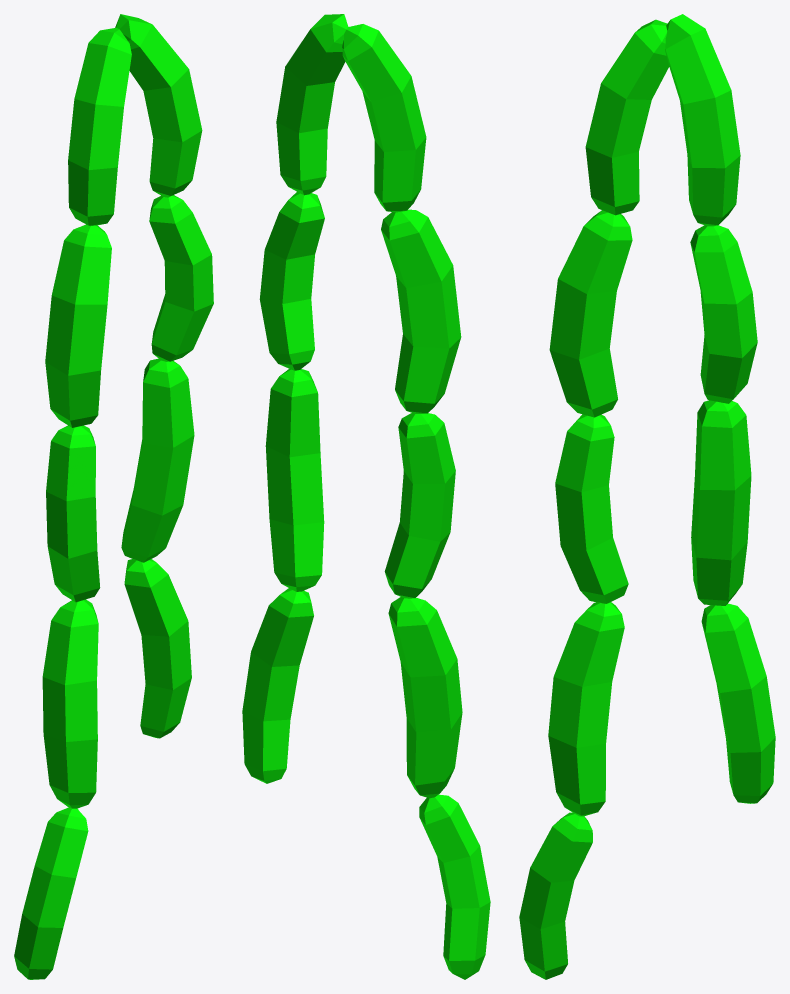
Rendered from SM_Sausages_Thick.fbx.
3 renders of one model, left to right at view 1: azimuth 30°, elevation 25°; view 2: azimuth 150°, elevation 25°; view 3: azimuth 330°, elevation 25°, orthographic. The views are drawn at different scales.
Parts seen in each view (by area): view 1: sausages-thick; view 2: sausages-thick; view 3: sausages-thick.
Part boxes in pixels (x1,y1,x2,y2): sausages-thick: (14,14,213,979); sausages-thick: (242,14,490,979); sausages-thick: (519,14,775,979).
Bounding box in the file's own units: 0.2533 × 1.13 × 0.1406.
